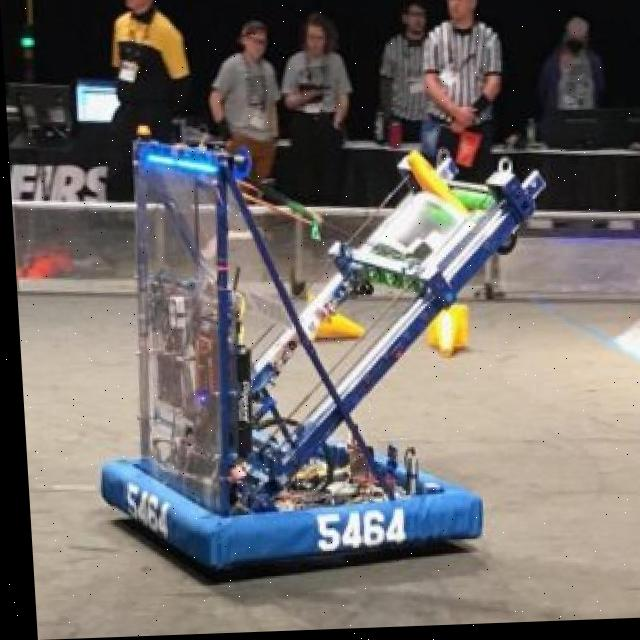robot: (81, 103, 563, 578)
